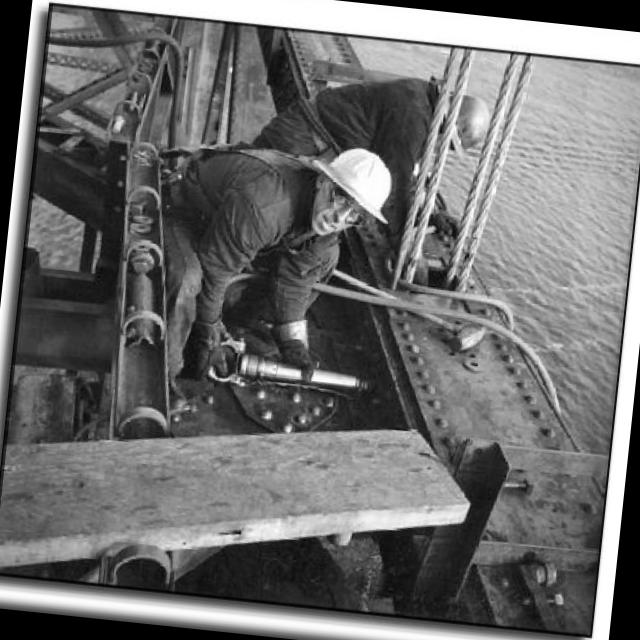helmet: (279, 123, 406, 265), (416, 80, 498, 156)
